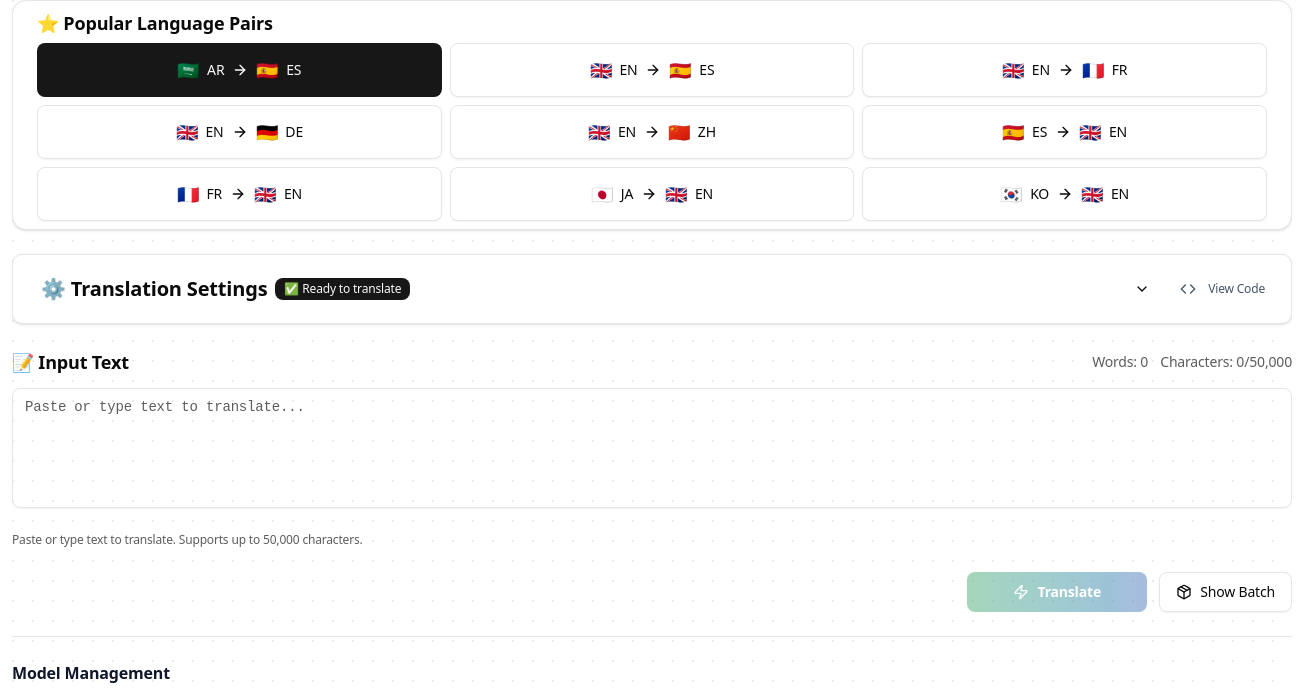
Scenario: TranslatorPlayground › enables translate button with input text
Type "Hello" into the text box with test id "translator-input" at point(652, 448), box [12,388,1292,508]
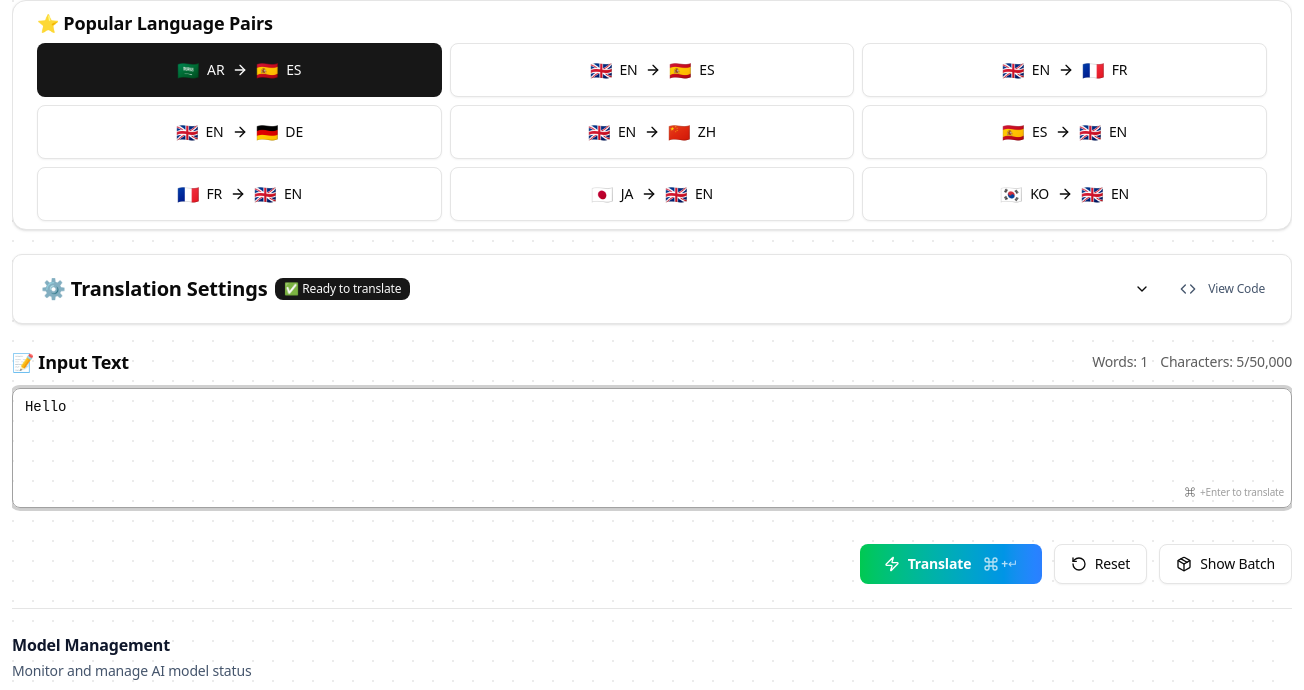
expect the button with test id "translate-btn" is enabled: met, box [860,544,1042,584]
